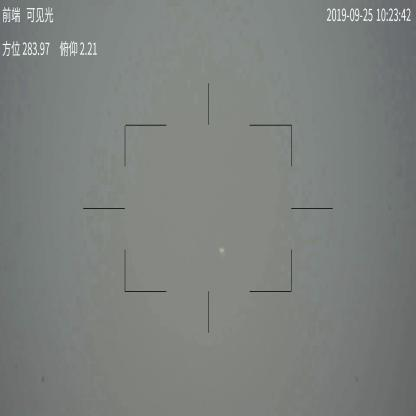uav: (219, 245, 226, 255)
